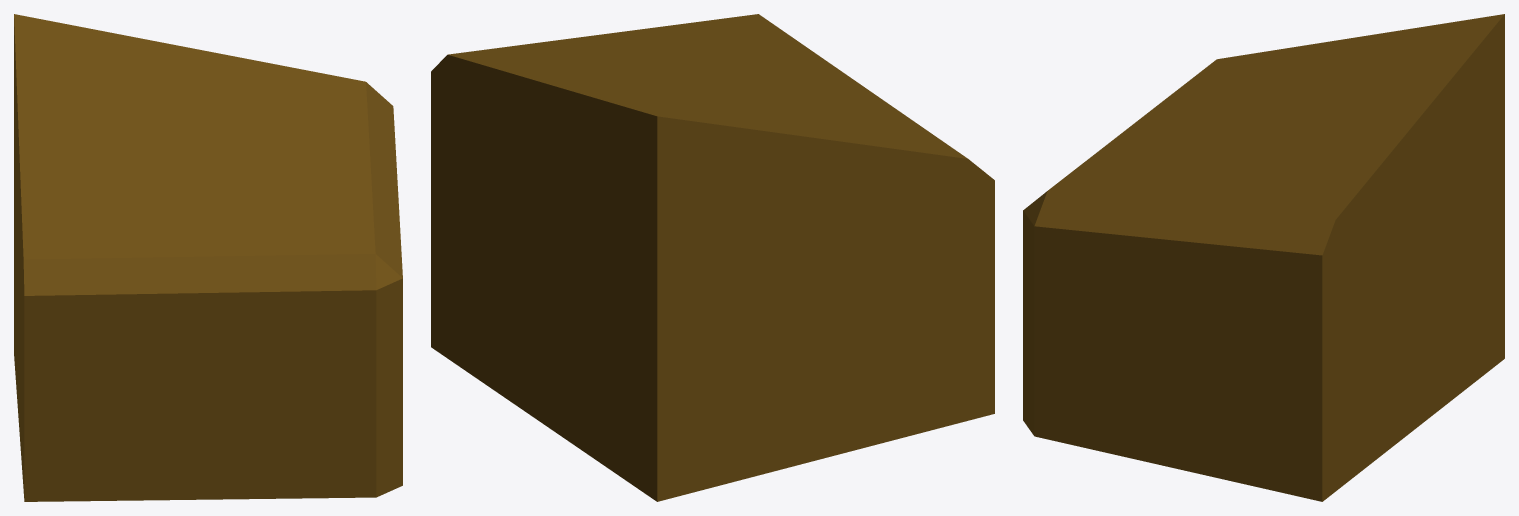
Rendered from Rock_Large_3.FBX.
3 views of the same model, side by side, from view 1: azimuth 30°, elevation 25°; view 2: azimuth 150°, elevation 25°; view 3: azimuth 270°, elevation 25° (orthographic). The views are drawn at different scales.
Visible parts, largest first — view 1: Rock_Large_3; view 2: Rock_Large_3; view 3: Rock_Large_3.
Boxes of the visible parts, box(x1,y1,x2,y2) form: Rock_Large_3: box(14, 14, 402, 501); Rock_Large_3: box(431, 14, 994, 501); Rock_Large_3: box(1023, 14, 1504, 501).
Bounding box in the file's own units: 13.63 × 10.22 × 12.95.
